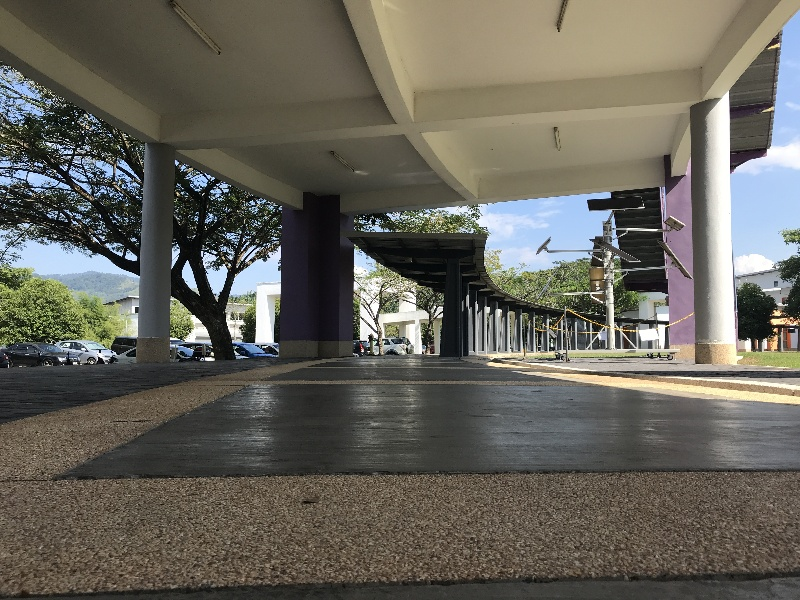Block D Pillar 4: (3, 9, 799, 476)
pillar: (671, 96, 758, 374), (265, 178, 363, 361), (649, 143, 704, 358), (131, 128, 175, 364), (426, 251, 473, 371)
